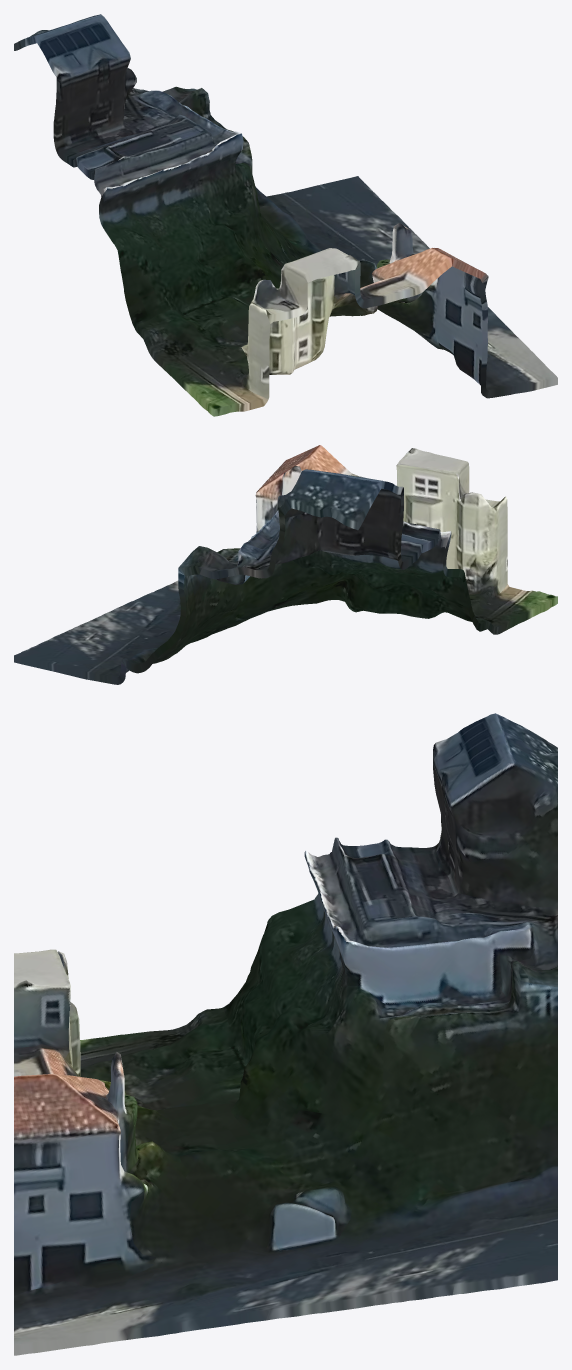
The model's file is z20-167722-405192-h0-yup-uvflip-v3-world.glb.
3 views of the same model, one above another, from view 1: azimuth 30°, elevation 25°; view 2: azimuth 150°, elevation 25°; view 3: azimuth 270°, elevation 25° (orthographic). The views are drawn at different scales.
Size of the model in its own units: 30.16 by 25.44 by 30.32.
Materials: 1 (1 with a texture image).
